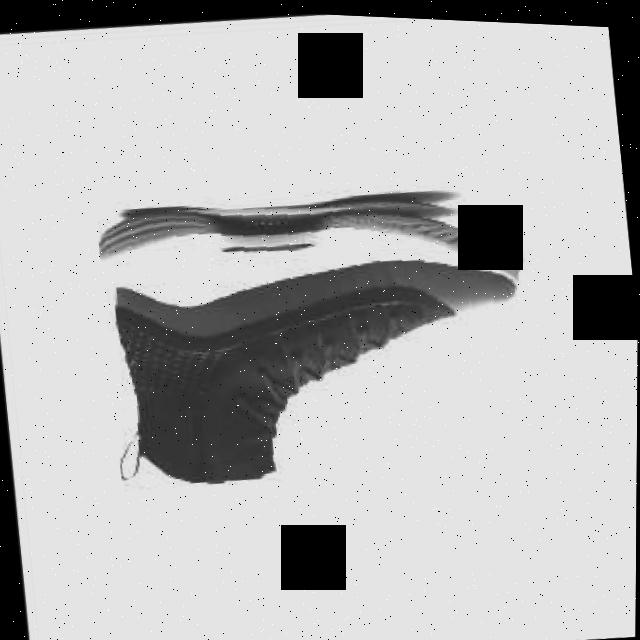shoe: (94, 166, 543, 500)
